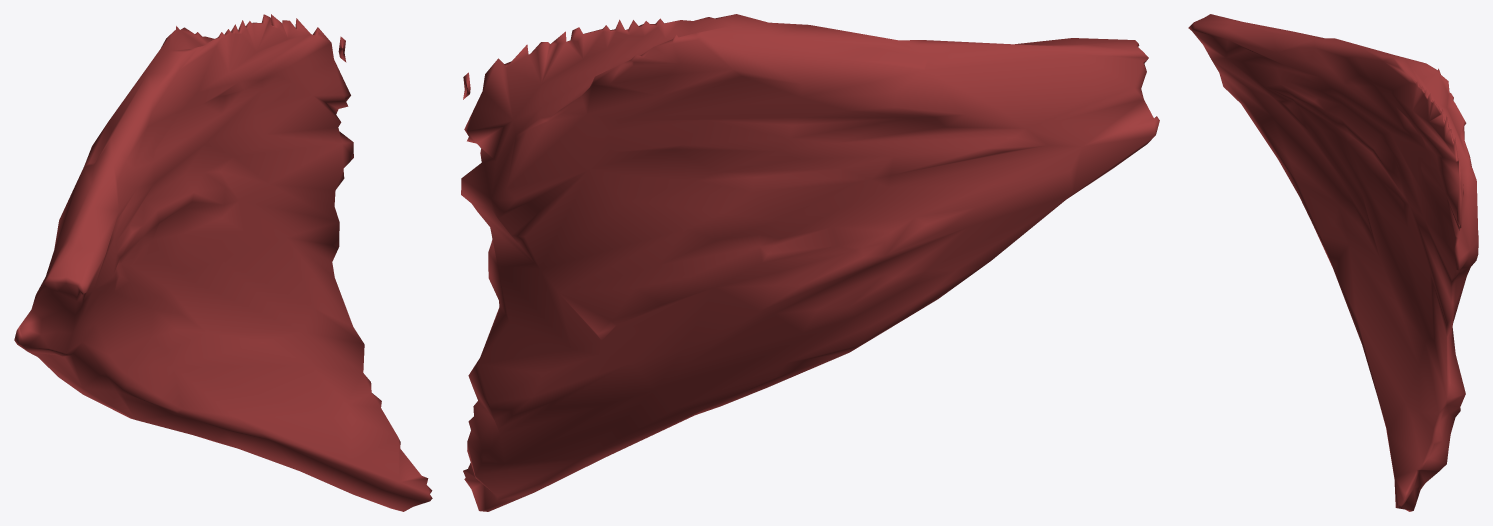
The model's file is coccygeus-muscle-r.glb.
3 renders of one model, left to right at view 1: azimuth 30°, elevation 25°; view 2: azimuth 150°, elevation 25°; view 3: azimuth 270°, elevation 25°, orthographic. The views are drawn at different scales.
Visible parts, largest first — view 1: Coccygeus muscle.r; view 2: Coccygeus muscle.r; view 3: Coccygeus muscle.r.
Part boxes in pixels (bbox=[...]): Coccygeus muscle.r: bbox=[14, 14, 432, 511]; Coccygeus muscle.r: bbox=[461, 14, 1159, 511]; Coccygeus muscle.r: bbox=[1188, 14, 1478, 511].
Bounding box in the file's own units: 0.0443 × 0.041 × 0.0289.
